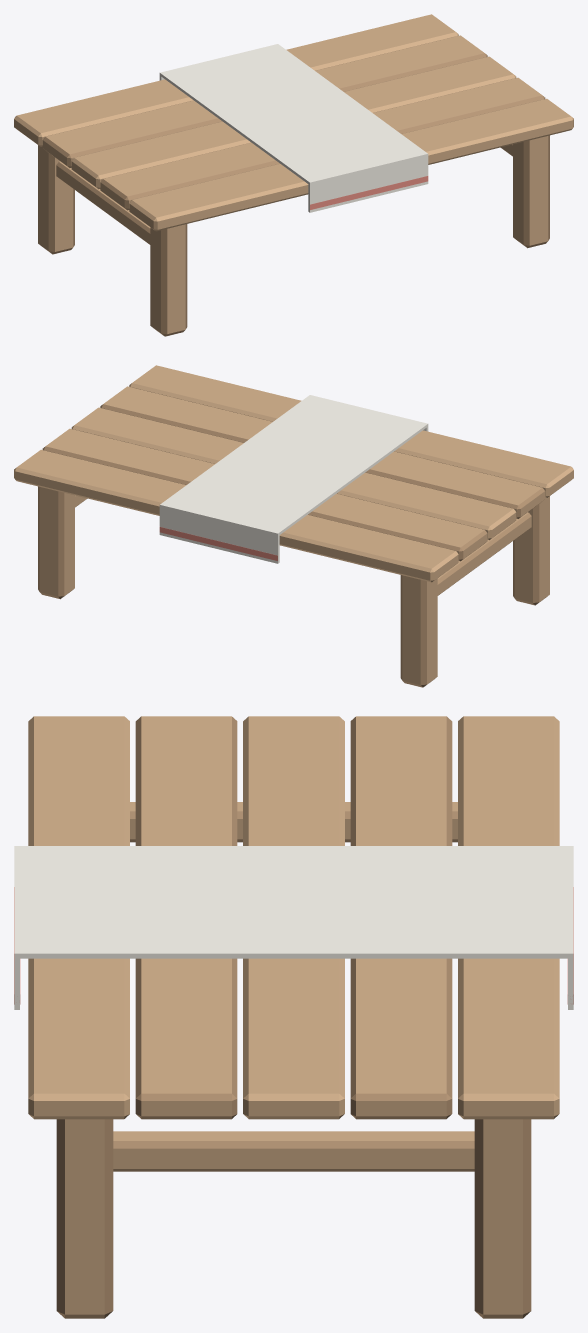
The model's file is dinner_table.glb.
The picture shows the model from 3 angles, top to bottom: view 1: azimuth 30°, elevation 25°; view 2: azimuth 150°, elevation 25°; view 3: azimuth 270°, elevation 25°; orthographic projection. The views are drawn at different scales.
Visible parts, largest first — view 1: Table; view 2: Table; view 3: Table.
Boxes of the visible parts, x1,y1,x2,y2 form: Table: (14, 14, 573, 336); Table: (14, 365, 573, 687); Table: (14, 716, 573, 1318).
Bounding box in the file's own units: 3.2 × 0.96 × 1.98.
